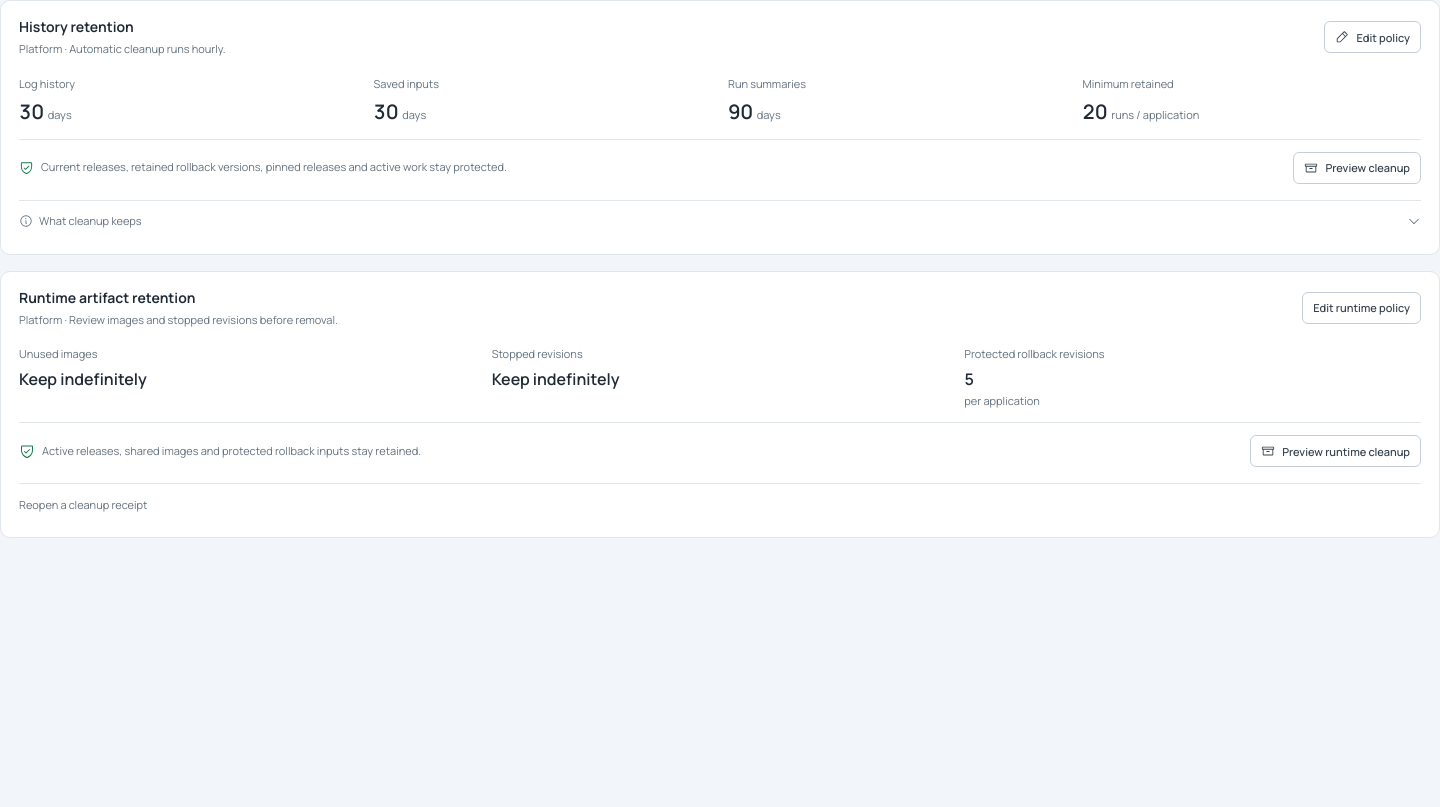
Test: history retention › invalidates a removal review when editing policy and saves without removing history
The image size is (1440, 807).
Click the button "Preview cleanup": (1357, 168) top-left (1293, 152), bottom-right (1421, 184)
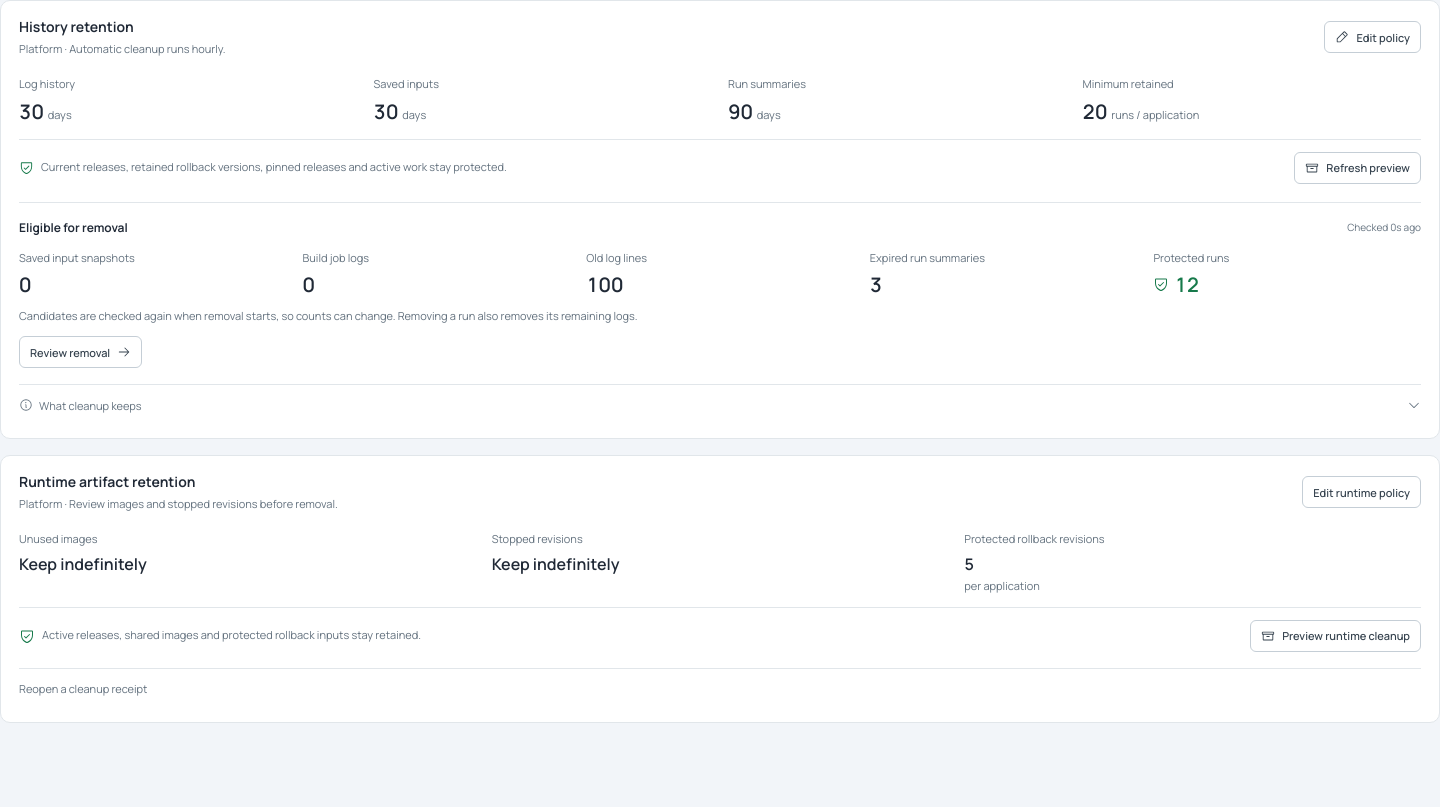
Now the element named "Cleanup preview" is shown, box top-left (19, 202), bottom-right (1421, 368)
Click the button "Review removal": (81, 352) top-left (19, 336), bottom-right (142, 368)
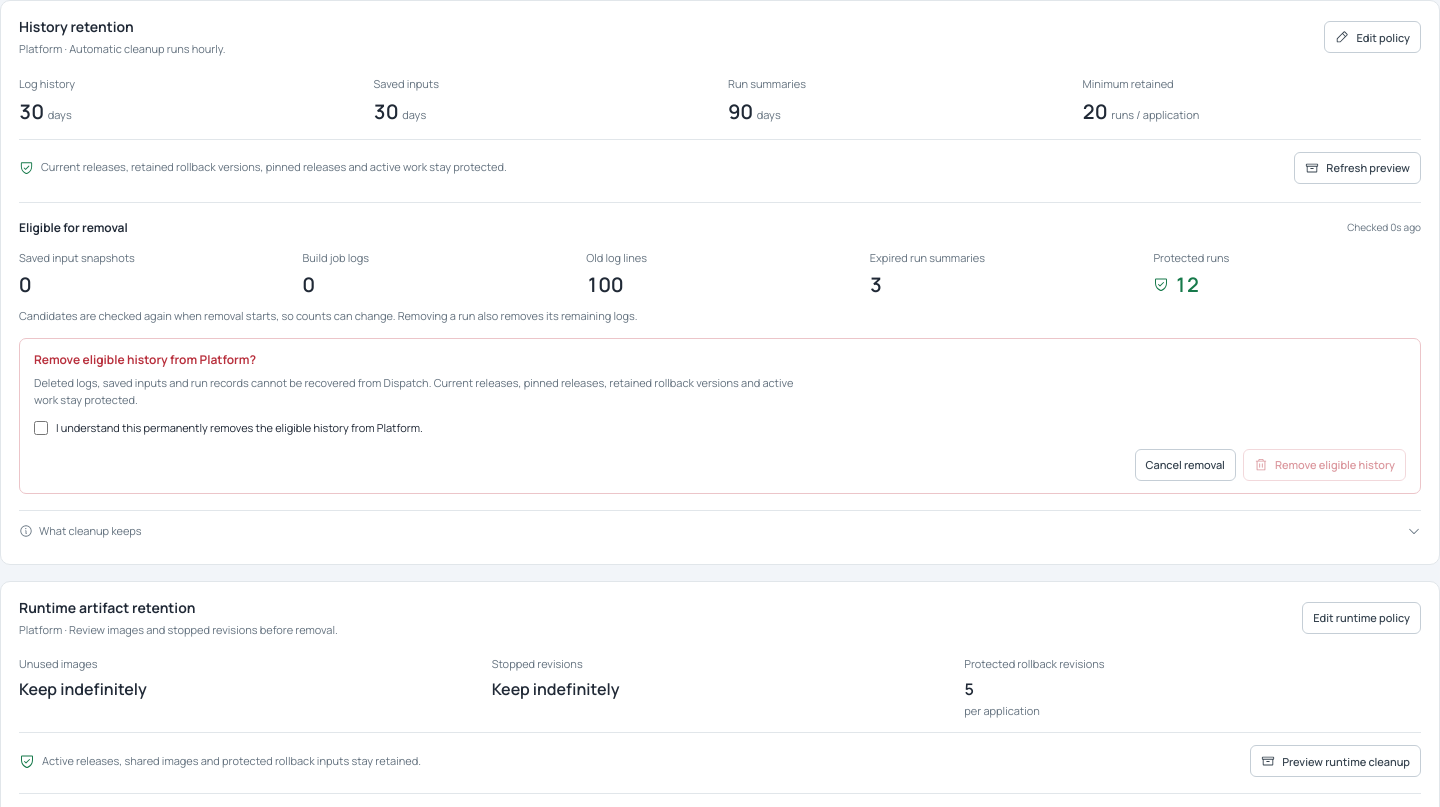
Click the checkbox: (41, 428) top-left (34, 421), bottom-right (48, 435)
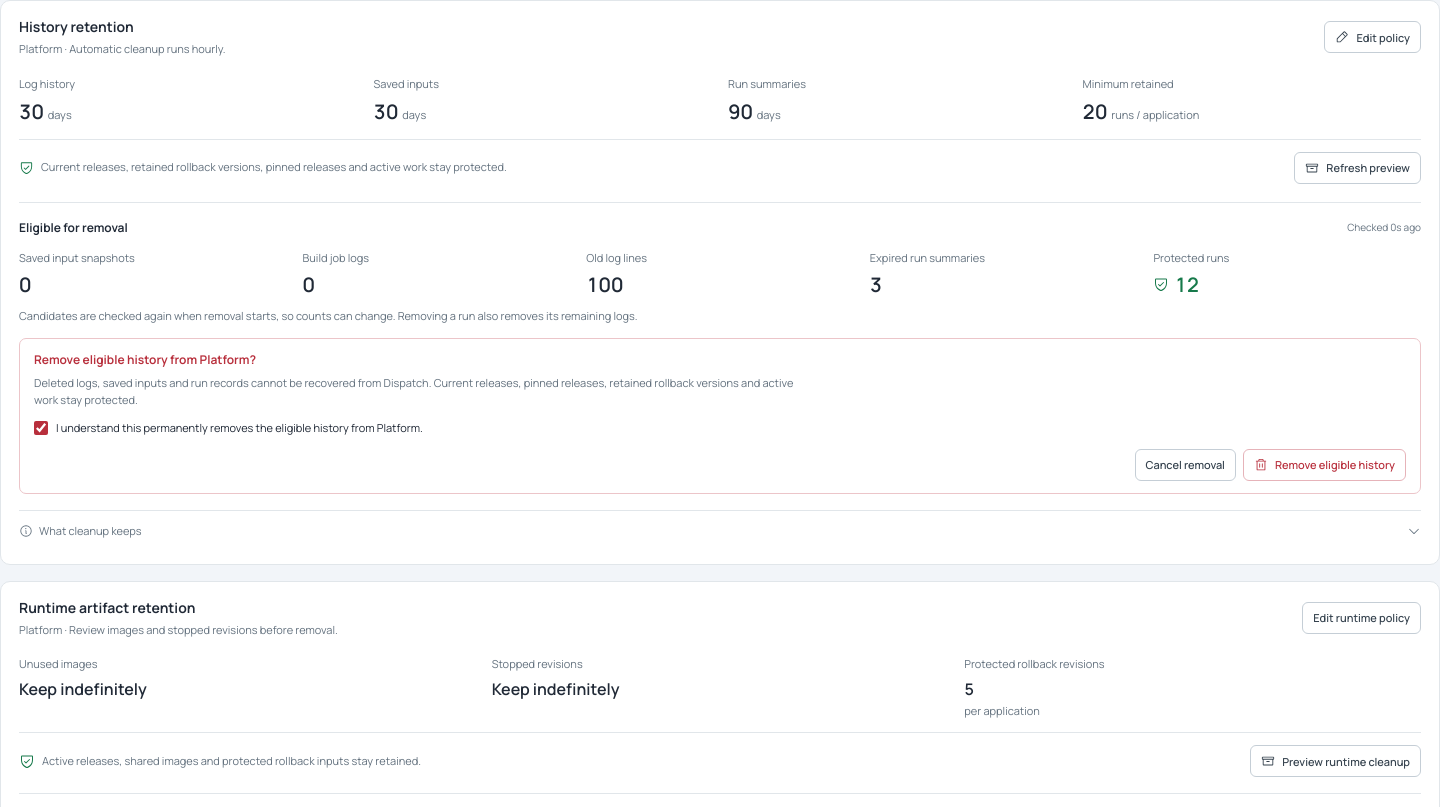
Click the button "Edit policy": (1373, 37) top-left (1324, 21), bottom-right (1421, 53)
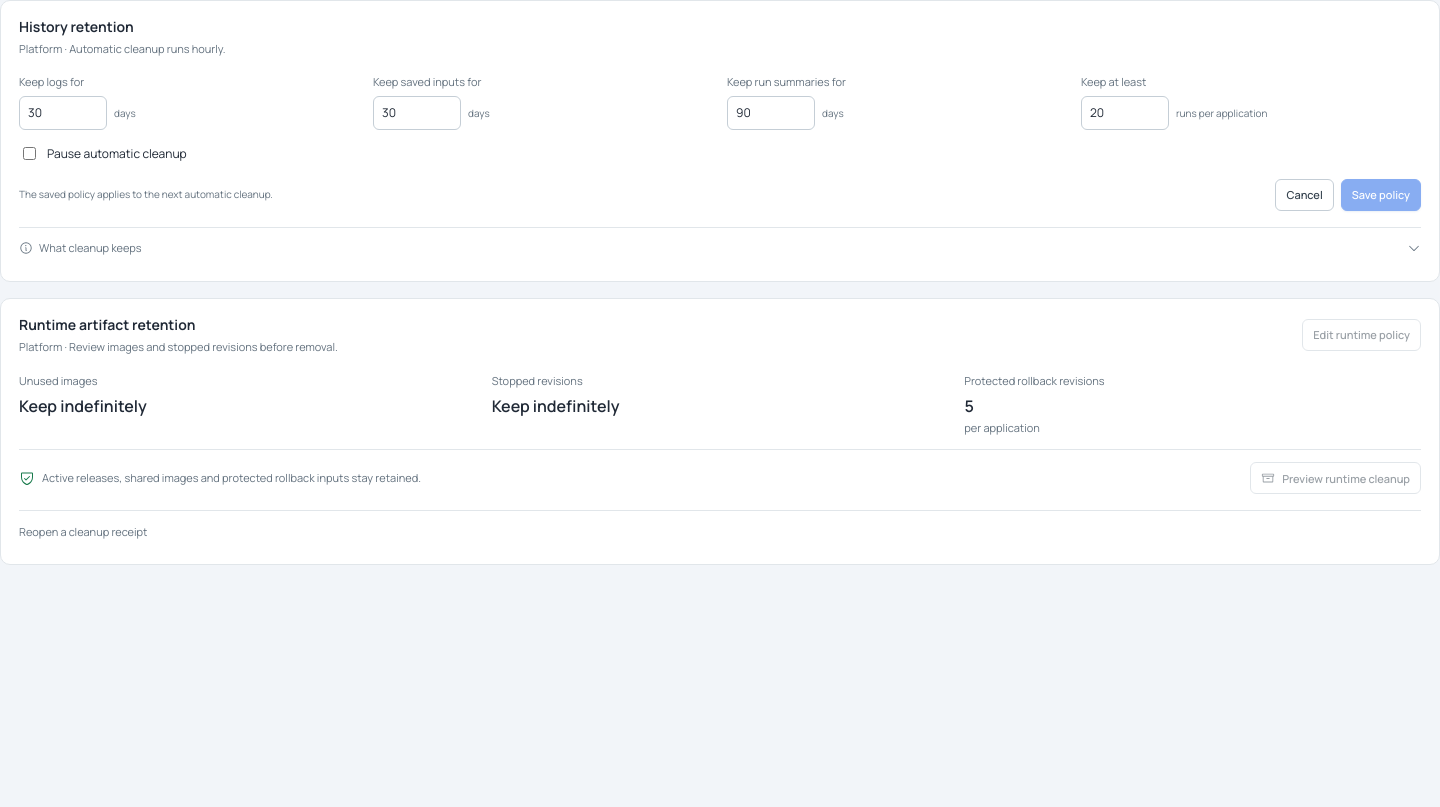
Now the heading "Remove eligible history" is gone
Replace the text in the number field labelled "Keep logs for" with "7": (63, 112) top-left (19, 96), bottom-right (107, 130)
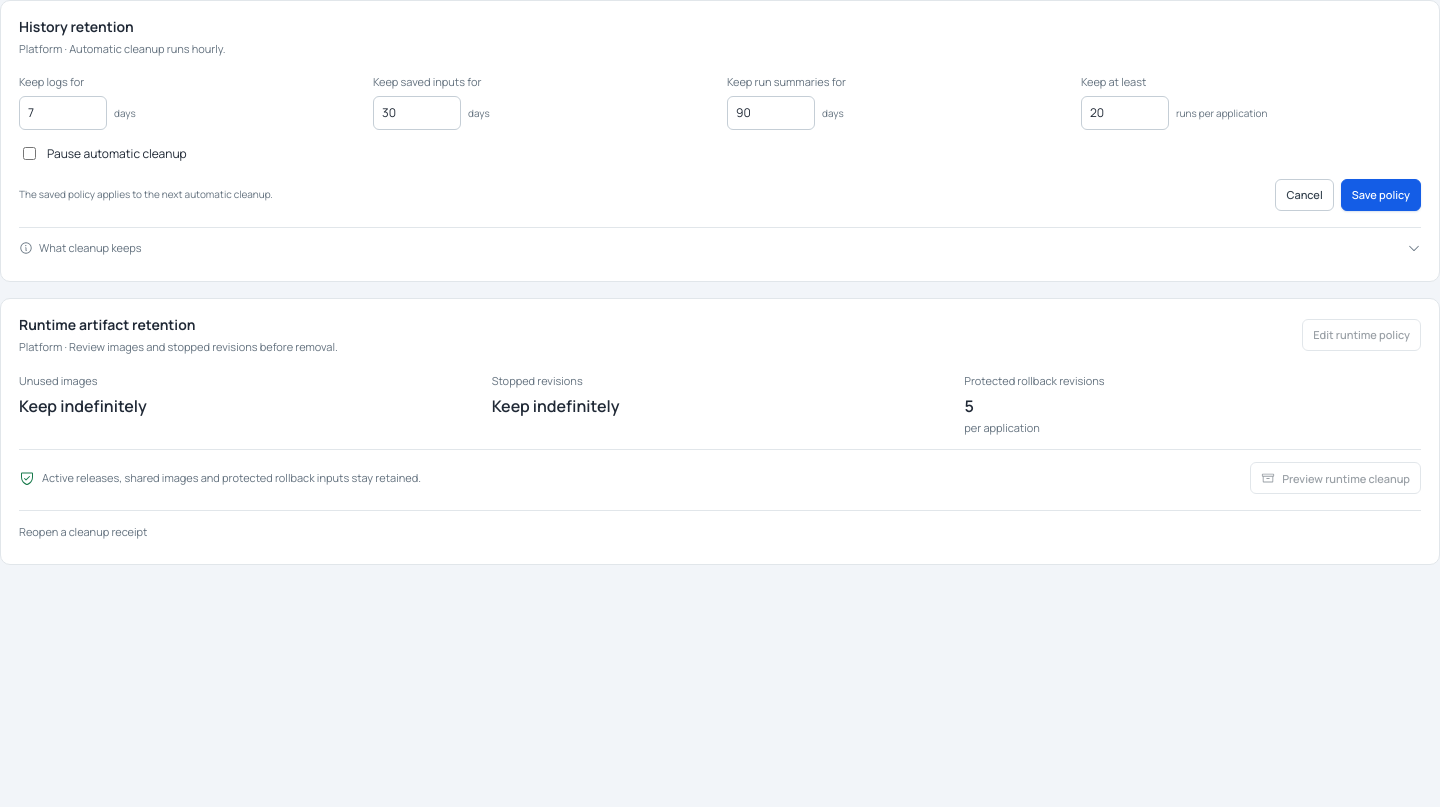
Click the button "Save policy": (1381, 194) top-left (1341, 178), bottom-right (1421, 210)
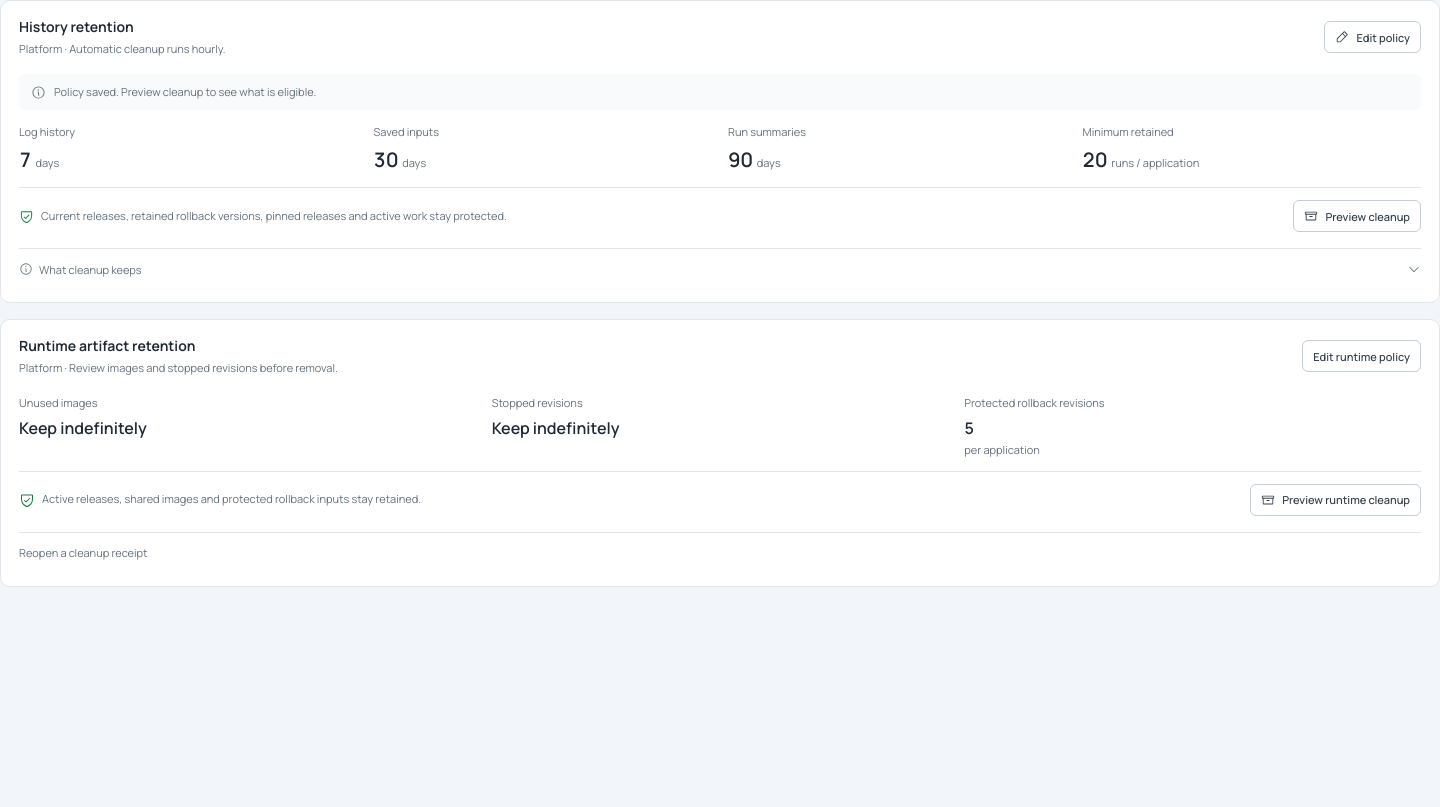
Now the text "Policy saved. Preview cleanup to see what is eligible." is shown, box top-left (19, 74), bottom-right (1421, 110)
